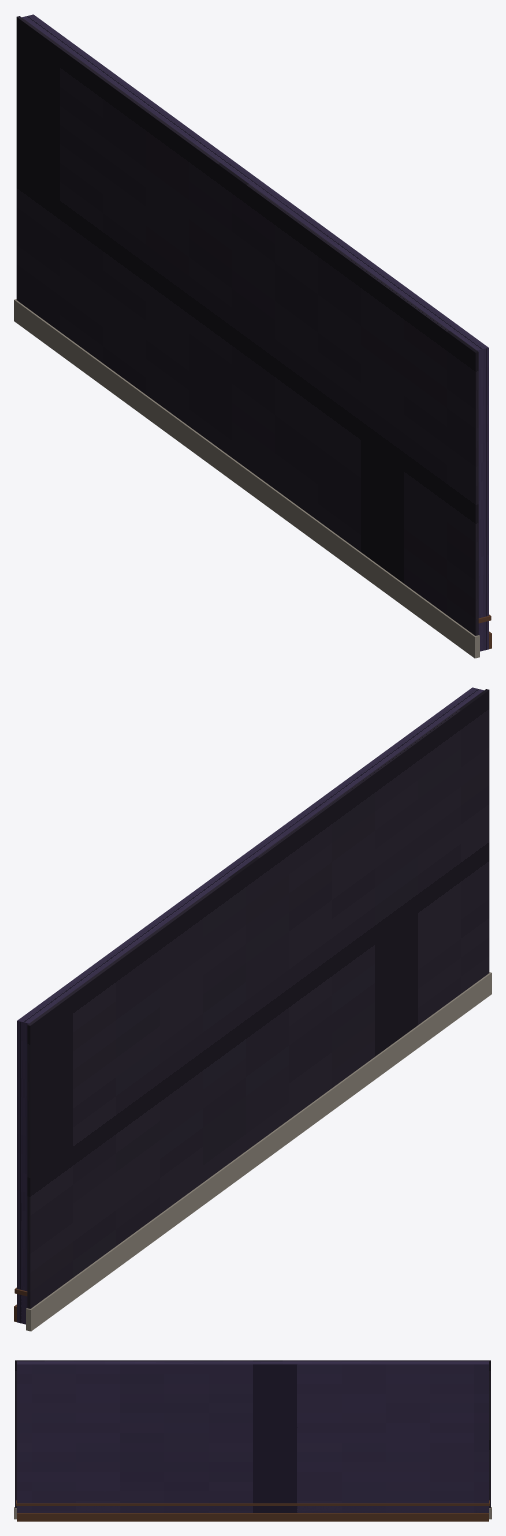
File: left.glb
3 renders of one model, top to bottom at view 1: azimuth 30°, elevation 25°; view 2: azimuth 150°, elevation 25°; view 3: azimuth 270°, elevation 25°, orthographic. The views are drawn at different scales.
Parts seen in each view (by area): view 1: Box3, Box4, Box1; view 2: Box3, Box4, Box1; view 3: Box1, Box2, Box3, Box6, Box5.
Boxes of the visible parts, <box> form: Box3: <box>16,16,478,635</box>; Box4: <box>14,299,479,658</box>; Box1: <box>22,14,488,651</box>; Box3: <box>27,689,489,1308</box>; Box4: <box>26,972,491,1331</box>; Box1: <box>17,687,483,1324</box>; Box1: <box>17,1361,488,1512</box>; Box2: <box>17,1513,488,1521</box>; Box3: <box>15,1360,490,1507</box>; Box6: <box>16,1500,489,1505</box>; Box5: <box>19,1506,488,1512</box>.
Bounding box in the file's own units: 0.25 × 3.64 × 9.97.
Materials: 4 (2 with a texture image).
